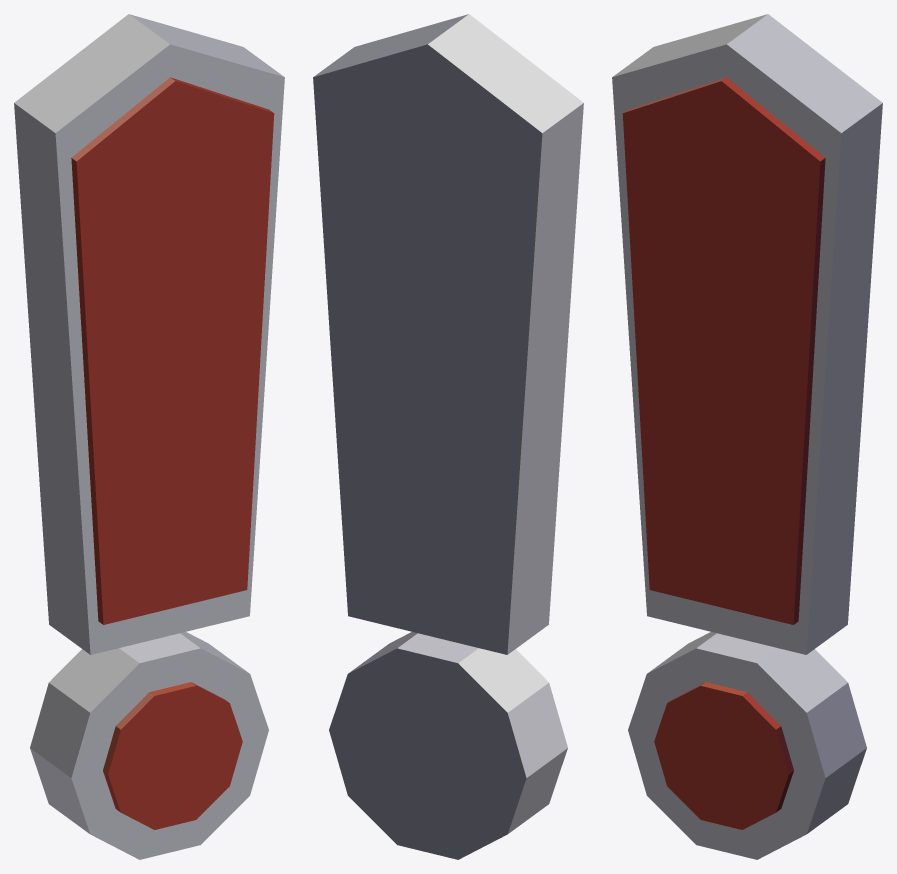
Rendered from emote_exclaim.glb.
3 views of the same model, side by side, from view 1: azimuth 30°, elevation 25°; view 2: azimuth 150°, elevation 25°; view 3: azimuth 330°, elevation 25° (orthographic).
Parts seen in each view (by area): view 1: emote_exclaim; view 2: emote_exclaim; view 3: emote_exclaim.
Part boxes in pixels (bbox=[...]): emote_exclaim: bbox=[14, 14, 284, 859]; emote_exclaim: bbox=[313, 14, 583, 859]; emote_exclaim: bbox=[612, 14, 882, 859].
Bounding box in the file's own units: 0.2554 × 0.8596 × 0.09.
